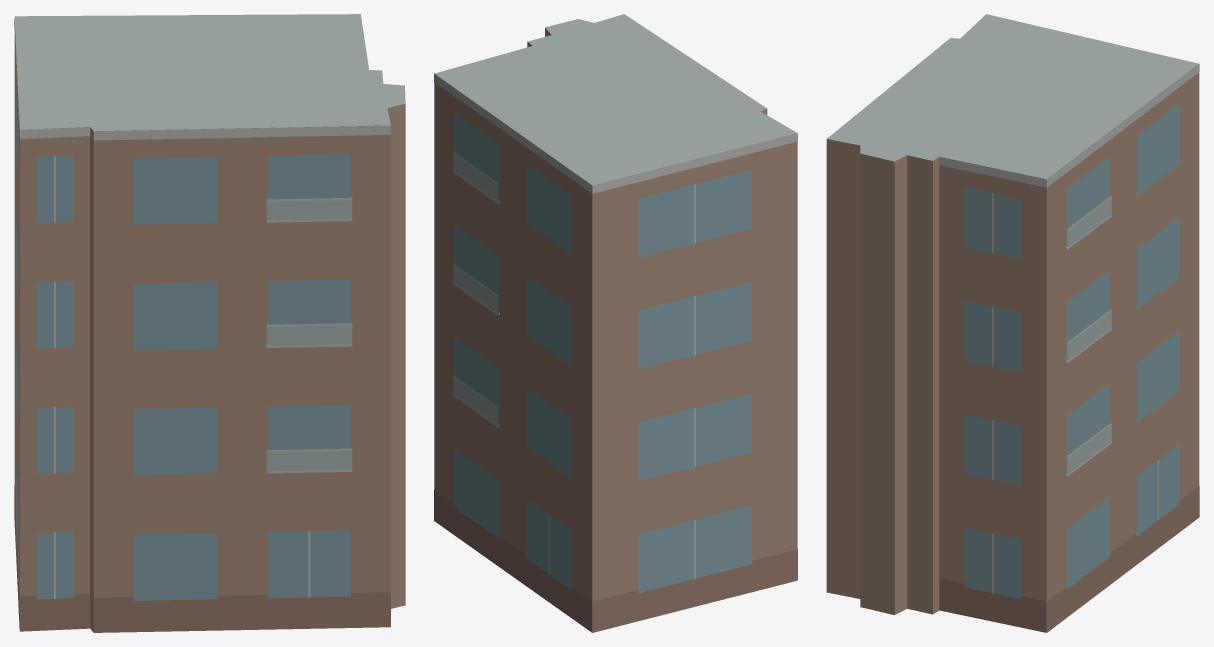
The model's file is survey-upis-32960261.glb.
3 renders of one model, left to right at view 1: azimuth 30°, elevation 25°; view 2: azimuth 150°, elevation 25°; view 3: azimuth 270°, elevation 25°, orthographic. The views are drawn at different scales.
Parts seen in each view (by area): view 1: survey-upis-32960261.tmp; view 2: survey-upis-32960261.tmp; view 3: survey-upis-32960261.tmp.
Boxes of the visible parts, box(x1,y1,x2,y2) form: survey-upis-32960261.tmp: box(14, 14, 405, 632); survey-upis-32960261.tmp: box(434, 14, 797, 632); survey-upis-32960261.tmp: box(826, 14, 1199, 632).
Bounding box in the file's own units: 10.24 × 13.1 × 9.76.
